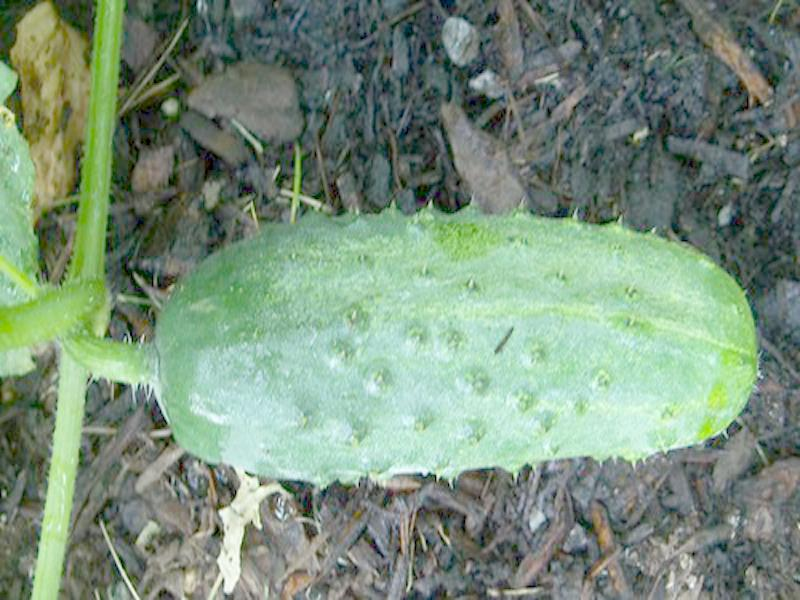Cucumber: (152, 206, 762, 482)
